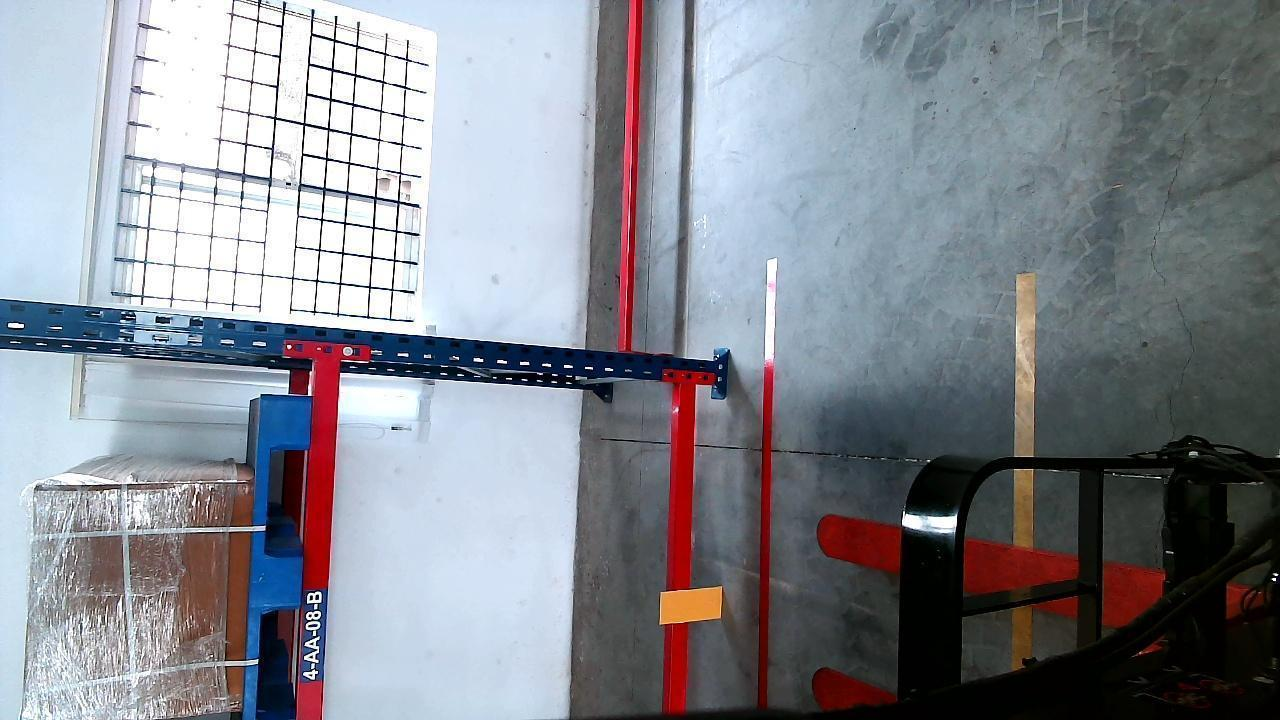red_line: (754, 257, 778, 705)
yellow_line: (1014, 262, 1037, 594)
